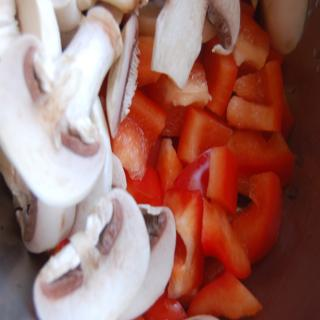tomato: (139, 56, 213, 138), (111, 91, 167, 181), (232, 172, 282, 261), (167, 191, 206, 297), (226, 60, 284, 131), (202, 197, 251, 279), (174, 104, 234, 169), (188, 273, 260, 318), (224, 6, 270, 68), (203, 41, 238, 118), (205, 146, 238, 217), (124, 162, 164, 206), (155, 135, 182, 187), (137, 34, 162, 90), (144, 292, 188, 320)
